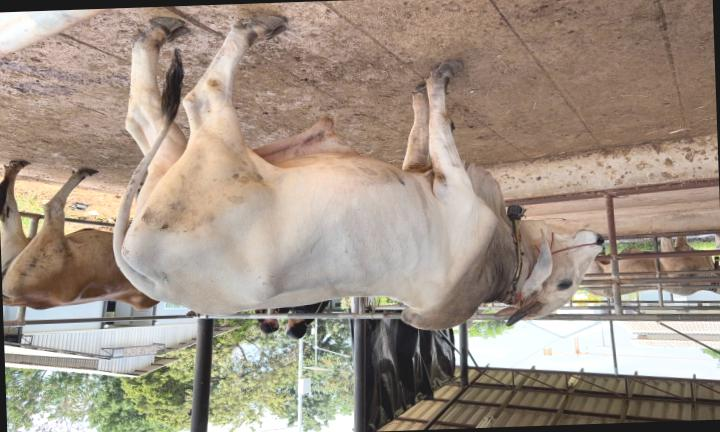Brahman: (114, 16, 602, 330)
